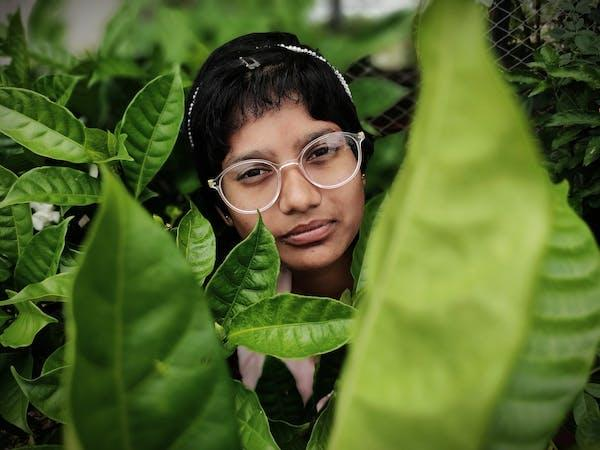eyeglasses: (207, 124, 372, 216)
